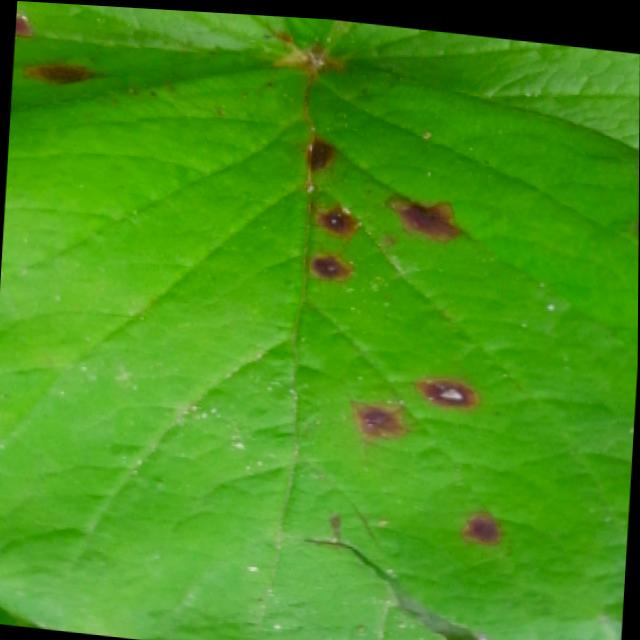Leaf Spot: (0, 61, 639, 640), (282, 13, 640, 140), (10, 1, 309, 112)
